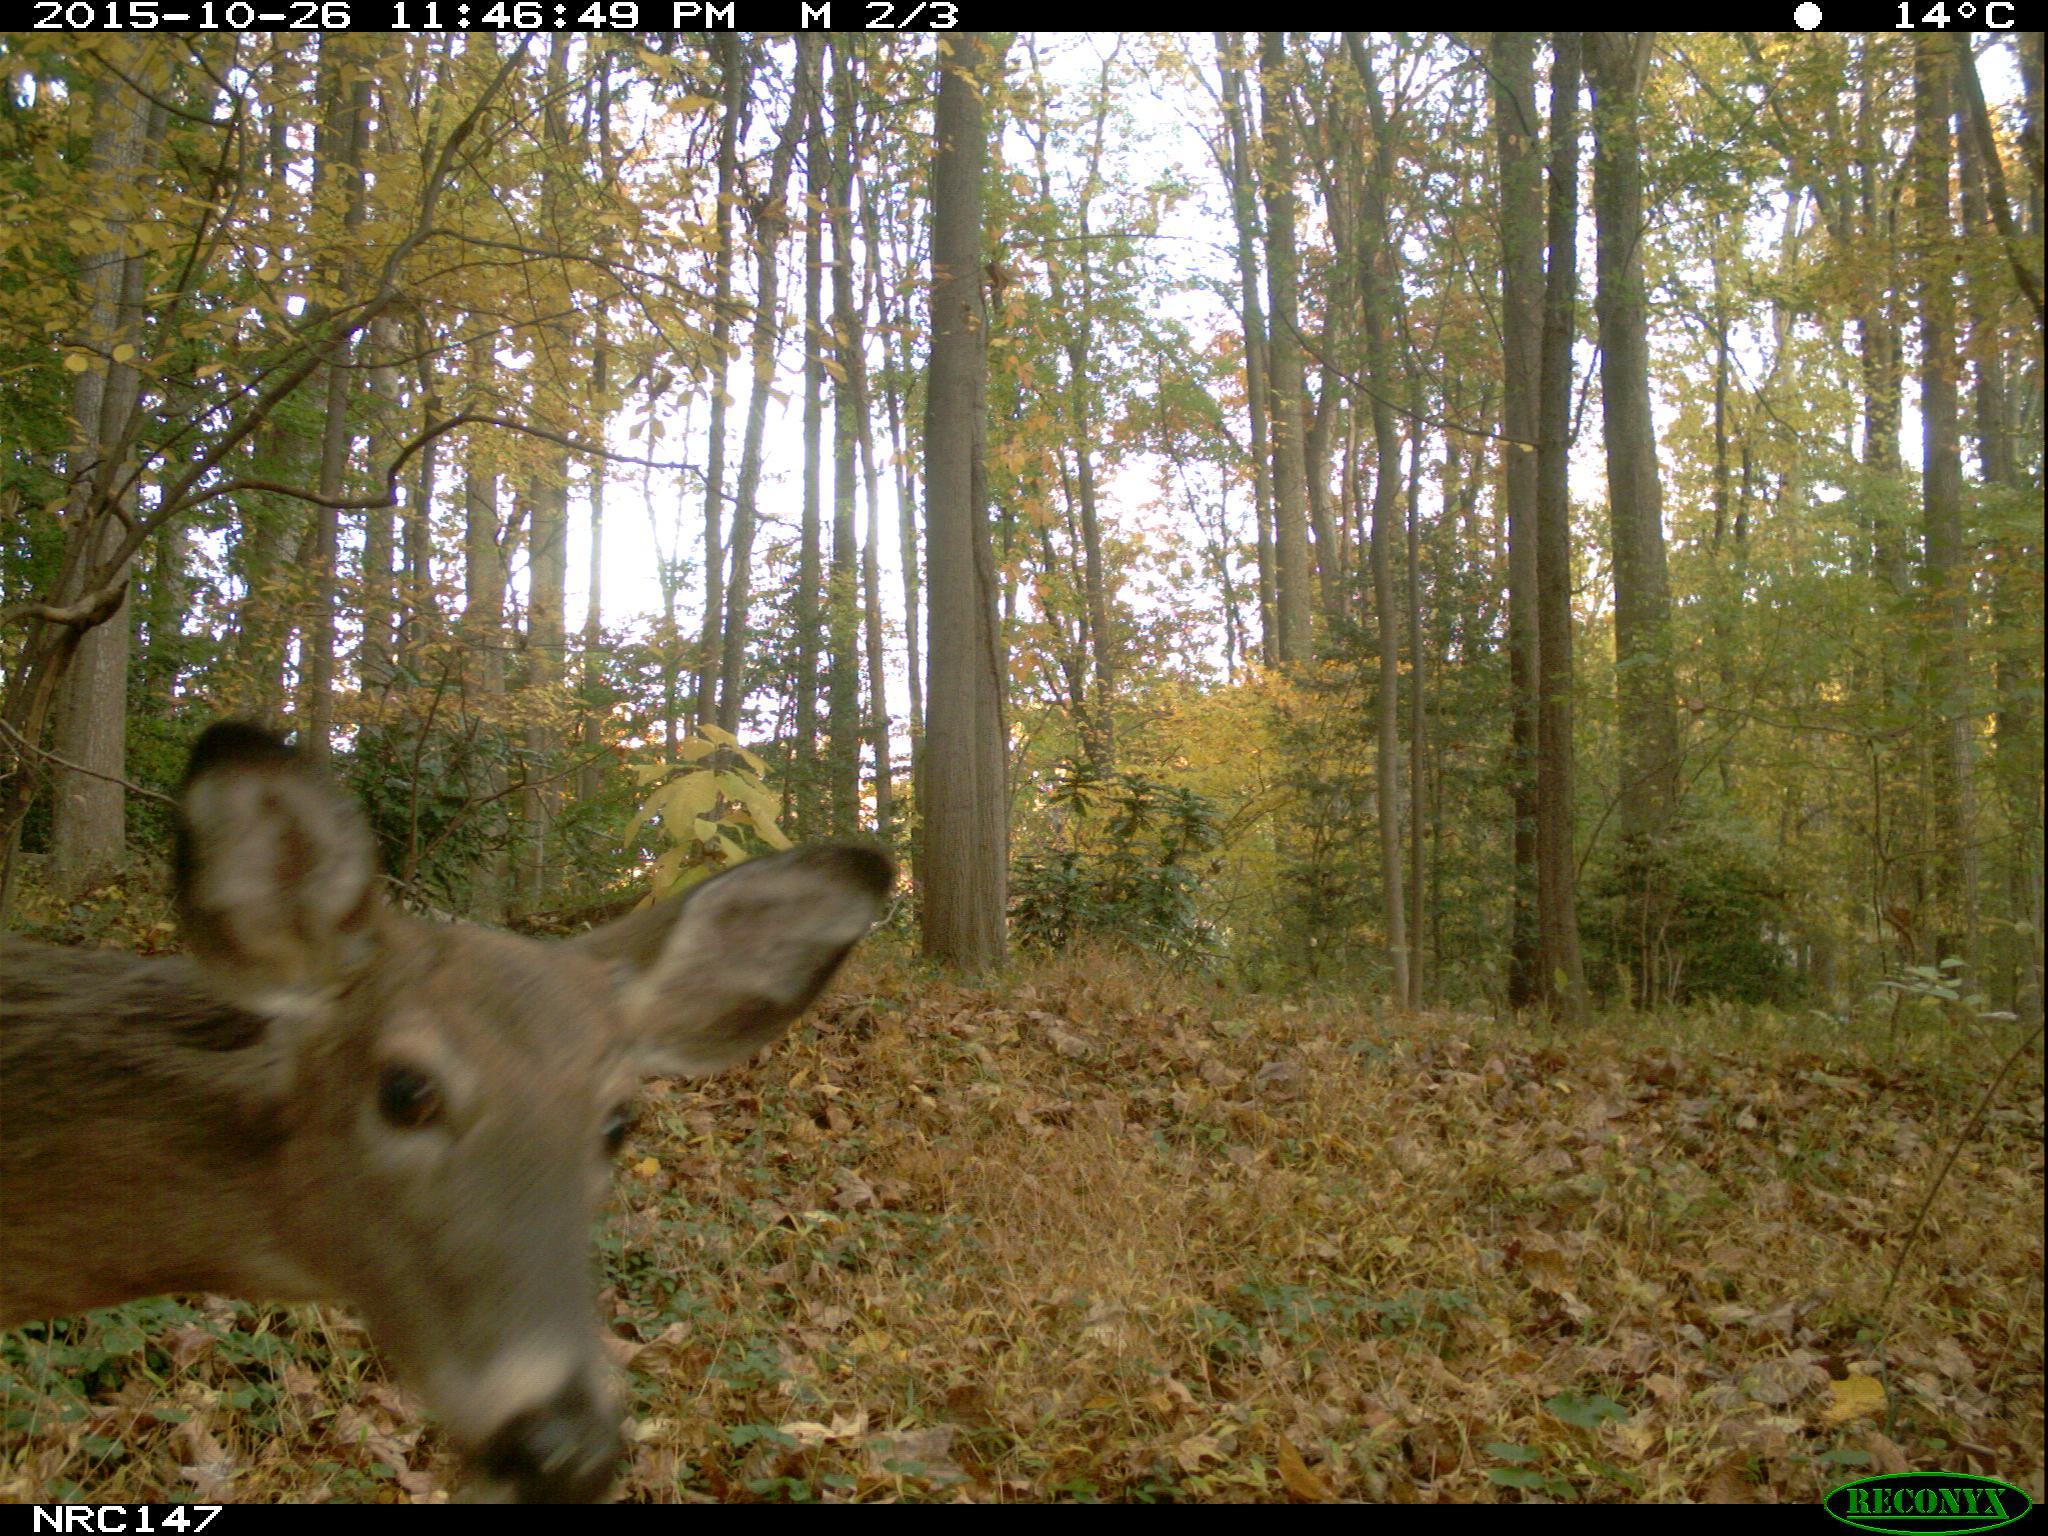Animal: (2, 715, 901, 1504)
